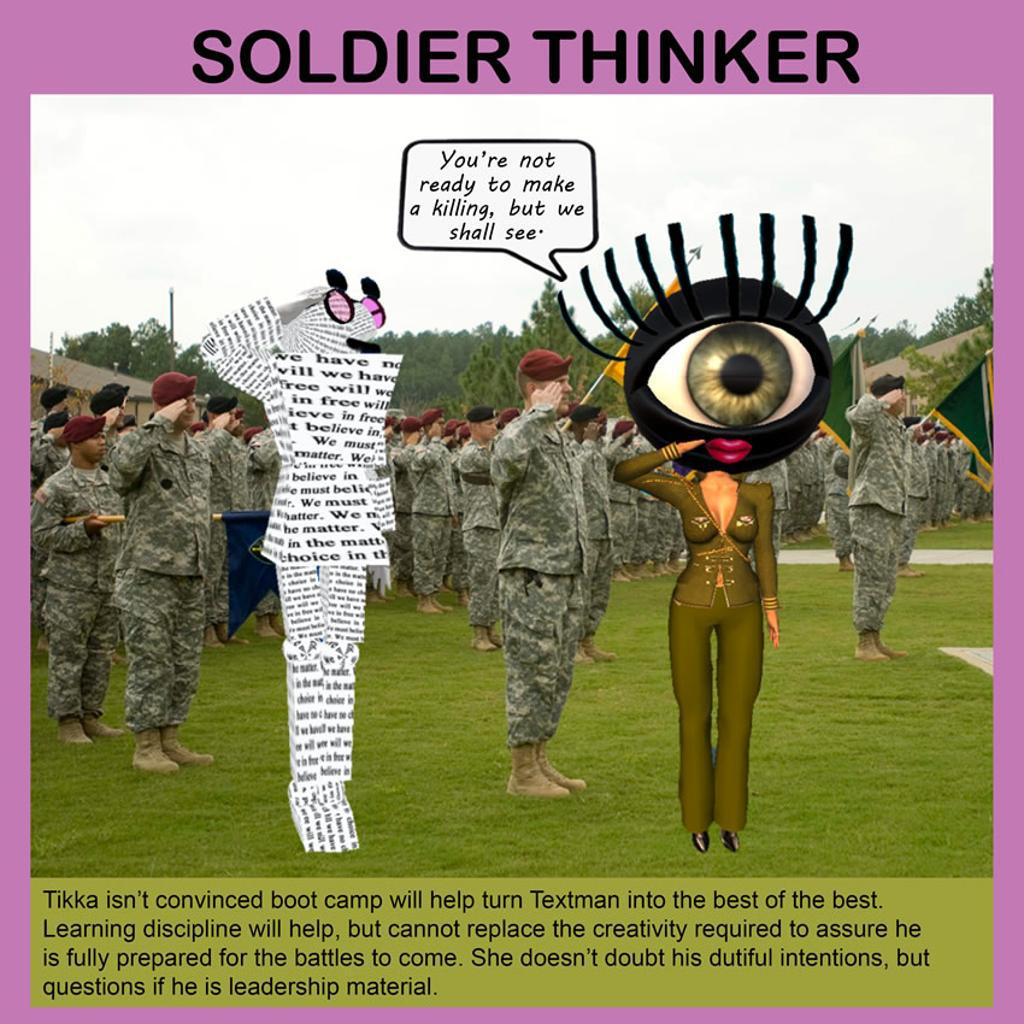face: (539, 370, 573, 416), (171, 391, 197, 429), (83, 428, 107, 465), (478, 415, 498, 442), (887, 386, 906, 413), (219, 406, 238, 432), (109, 402, 126, 428), (585, 414, 602, 439), (432, 416, 446, 440), (383, 421, 395, 445), (410, 423, 422, 446), (57, 396, 69, 416), (911, 422, 922, 439), (599, 416, 607, 437)
